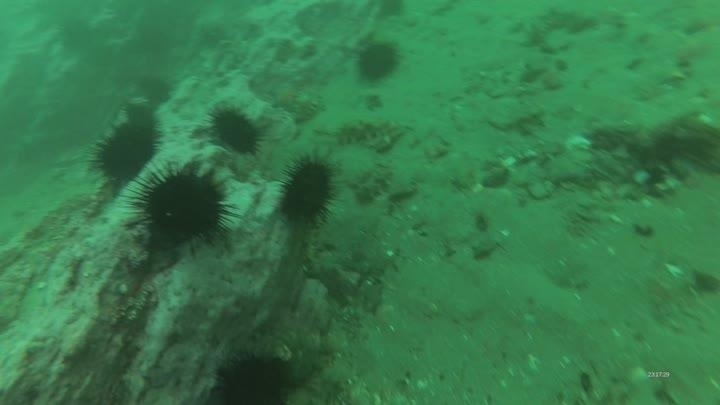echinus: (129, 163, 235, 252), (210, 348, 298, 405), (89, 118, 162, 185), (276, 154, 340, 227), (206, 104, 266, 157), (354, 39, 402, 86), (135, 73, 175, 109), (122, 100, 160, 132)
holothurian: (331, 115, 407, 152), (351, 162, 396, 208), (290, 88, 326, 126)
starfish: (267, 79, 304, 113)
